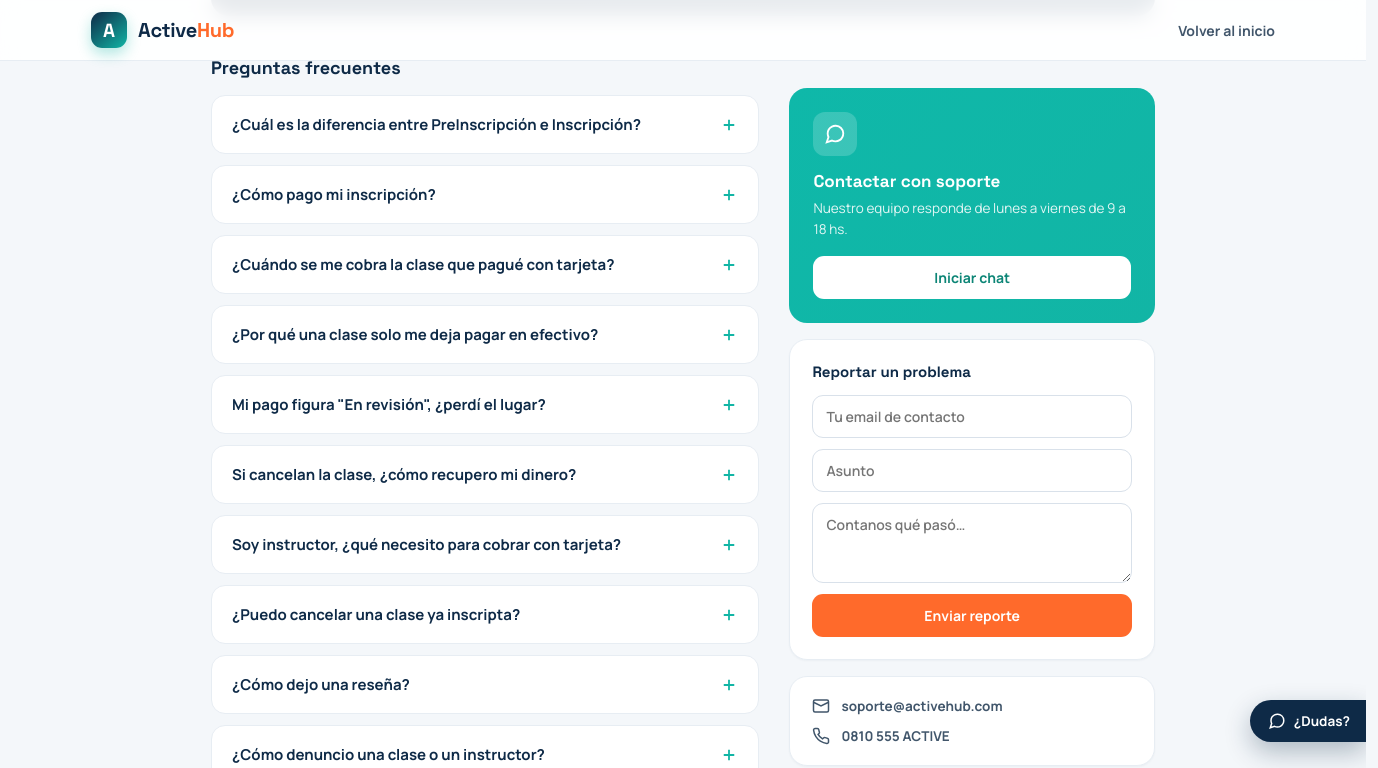
Test case: reportar un problema › si el backend rechaza el reporte, muestra SU mensaje y no dice que lo recibió
This screenshot has width=1378, height=768.
(page scrolled)
Type "  ana@test.com  " into the field with placeholder "Tu email de contacto". click: (972, 416)
box: [812,395,1132,438]
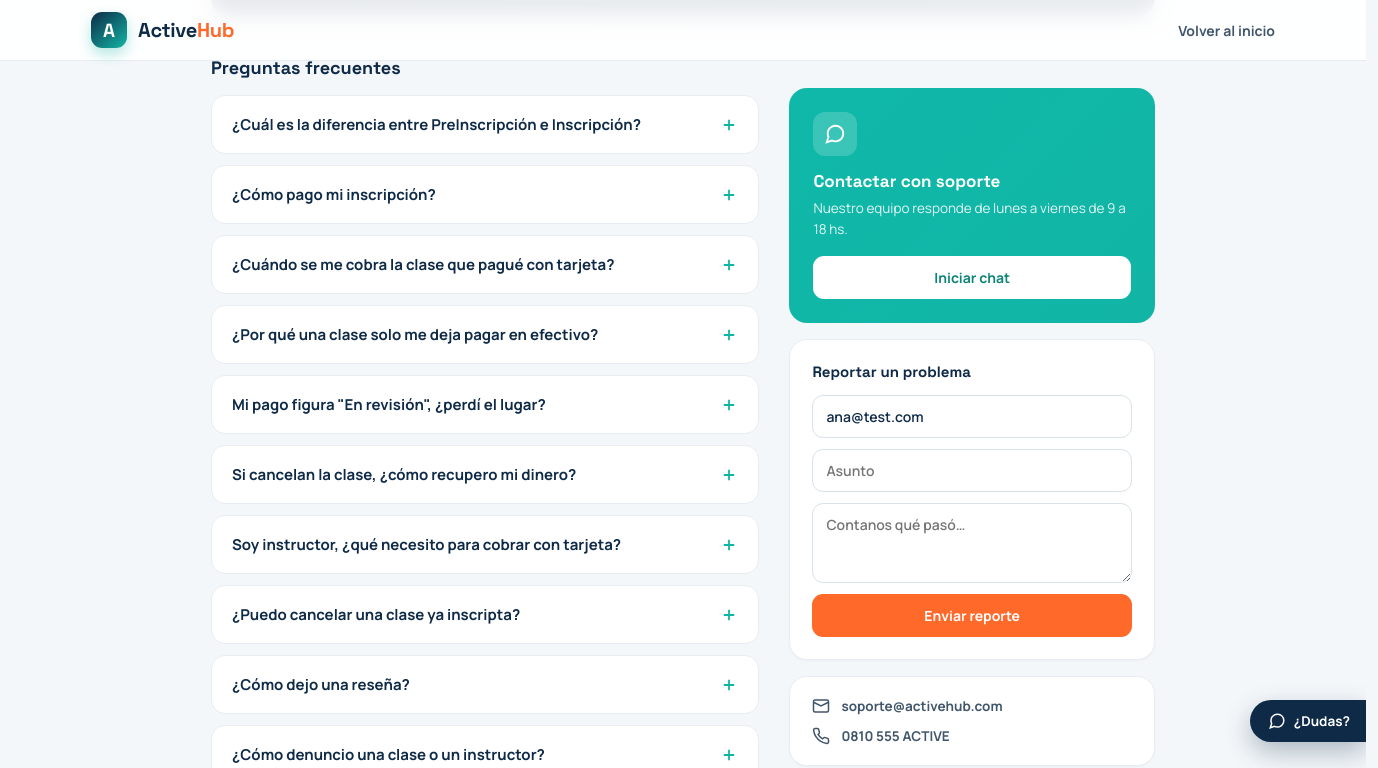
Type "  No puedo entrar  " into the field with placeholder "Asunto". click: (972, 470)
box: [812,449,1132,492]
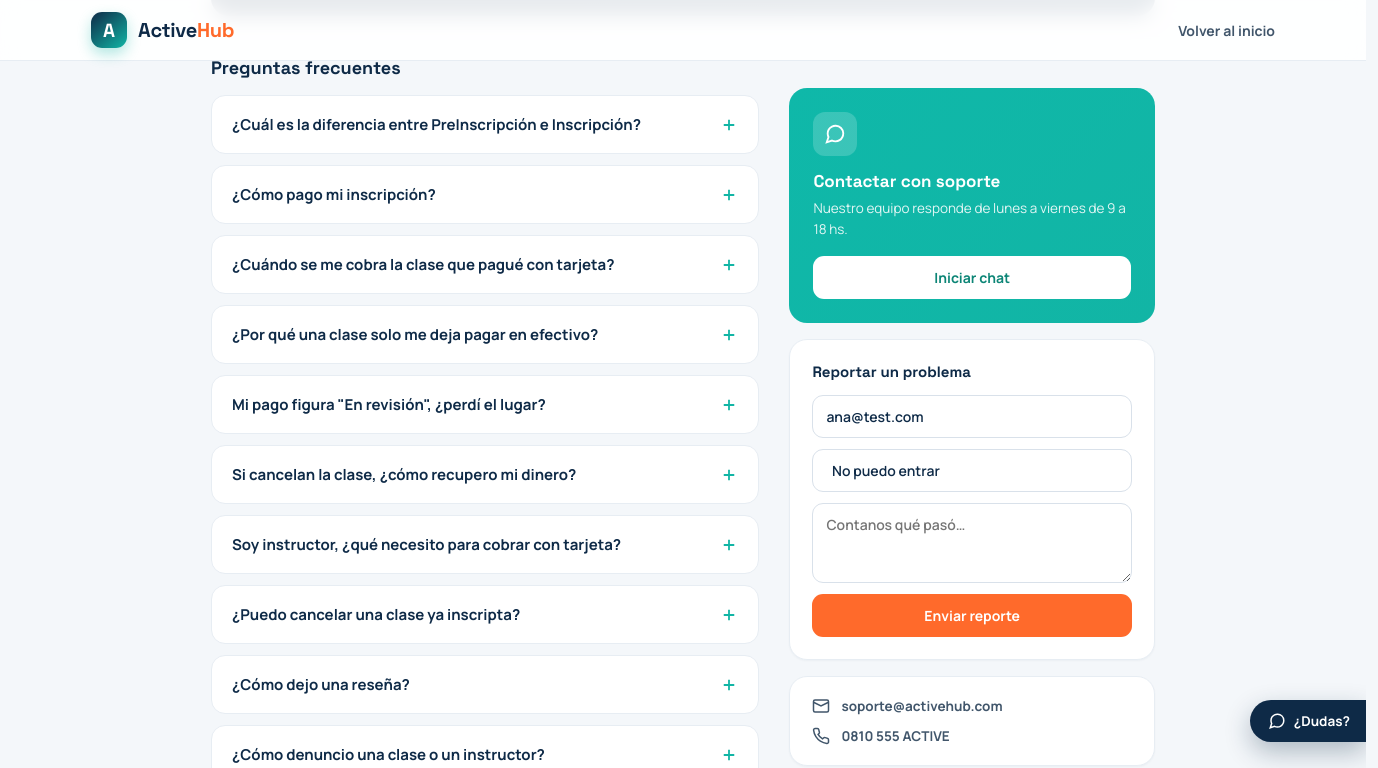
Type "  El código no llega  " into the text box with placeholder "Contanos qué pasó…". click: (972, 543)
box: [812,503,1132,583]
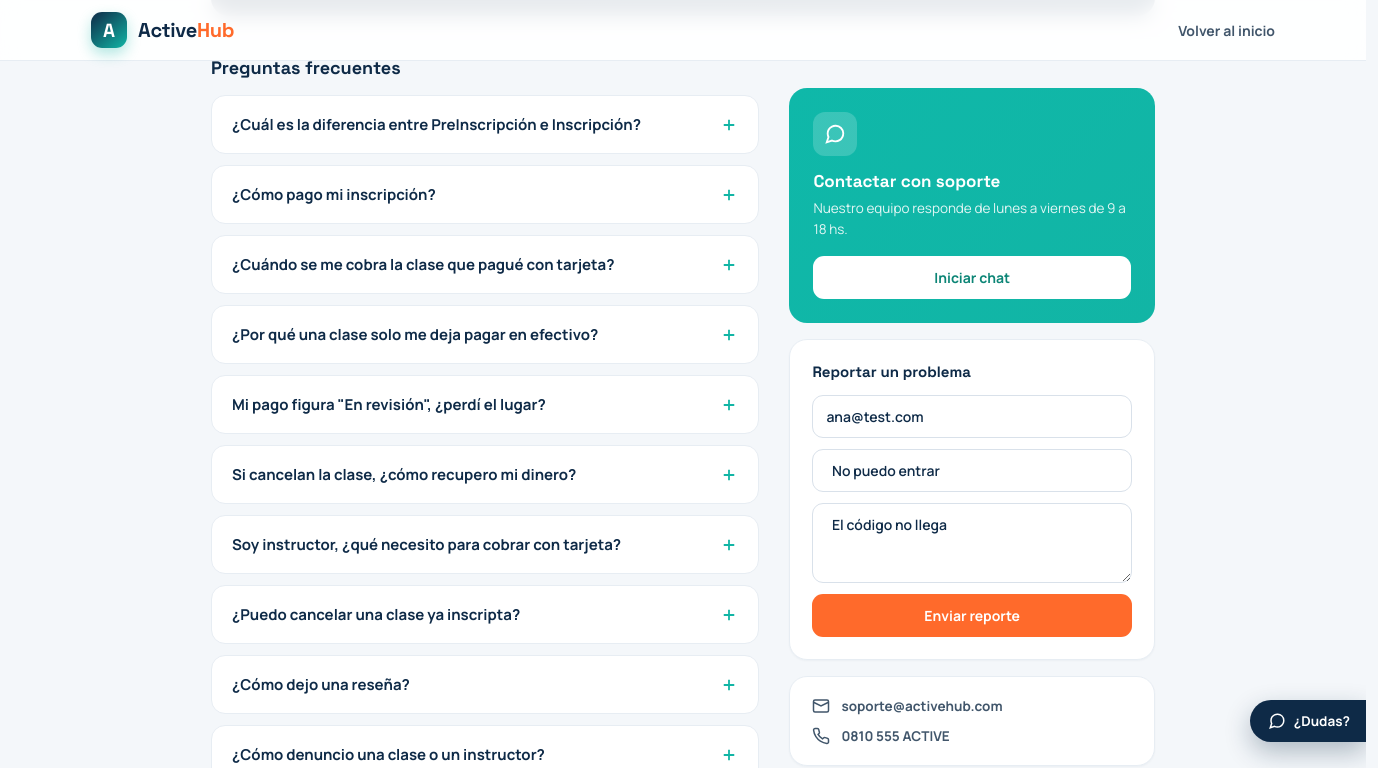
Click the button "Enviar reporte". click: (972, 615)
box: [812,594,1132,637]
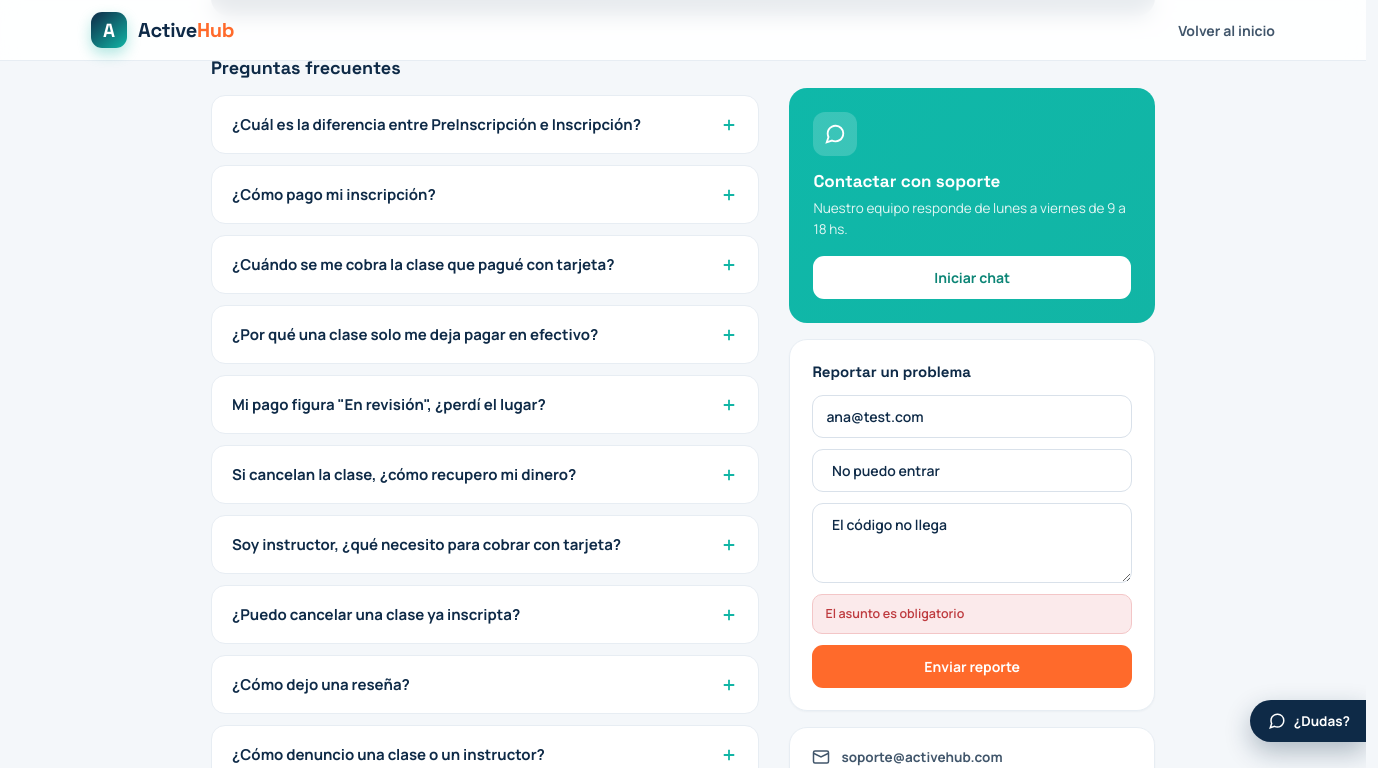
Expected: the message reads "El asunto es obligatorio", [825,605,964,622]
